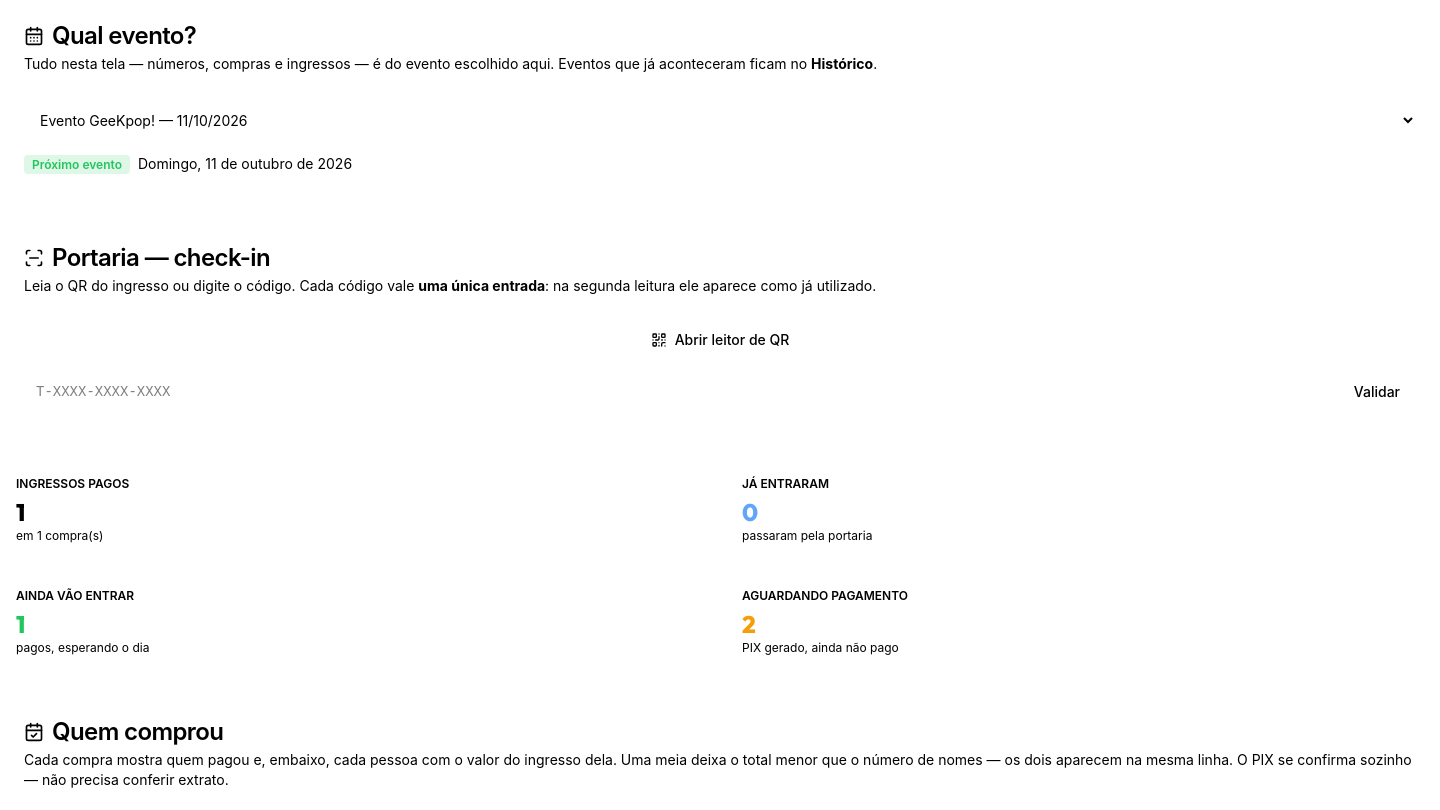
Scenario: EventTicketsTab › portaria mostra de qual evento é o ingresso recusado
This screenshot has width=1440, height=810.
expect the text "Próximo evento" is shown: met, box [24,155,130,174]
Step 1. Type "T-1" into the field with placeholder "T-XXXX-XXXX-XXXX" → (677,392), box [24,372,1330,412]
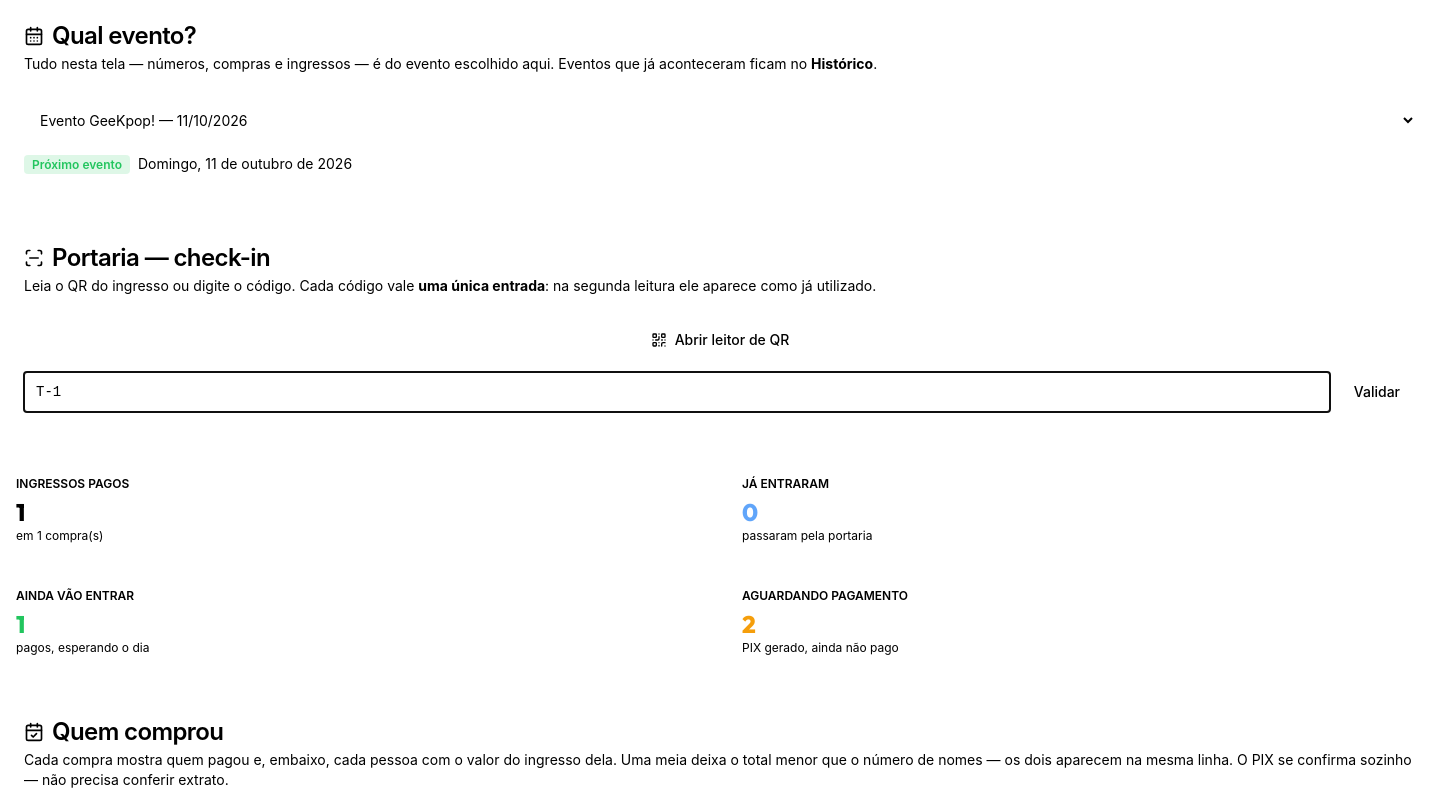
Step 2. Click the button "Validar" → (1377,392), box [1338,372,1416,412]
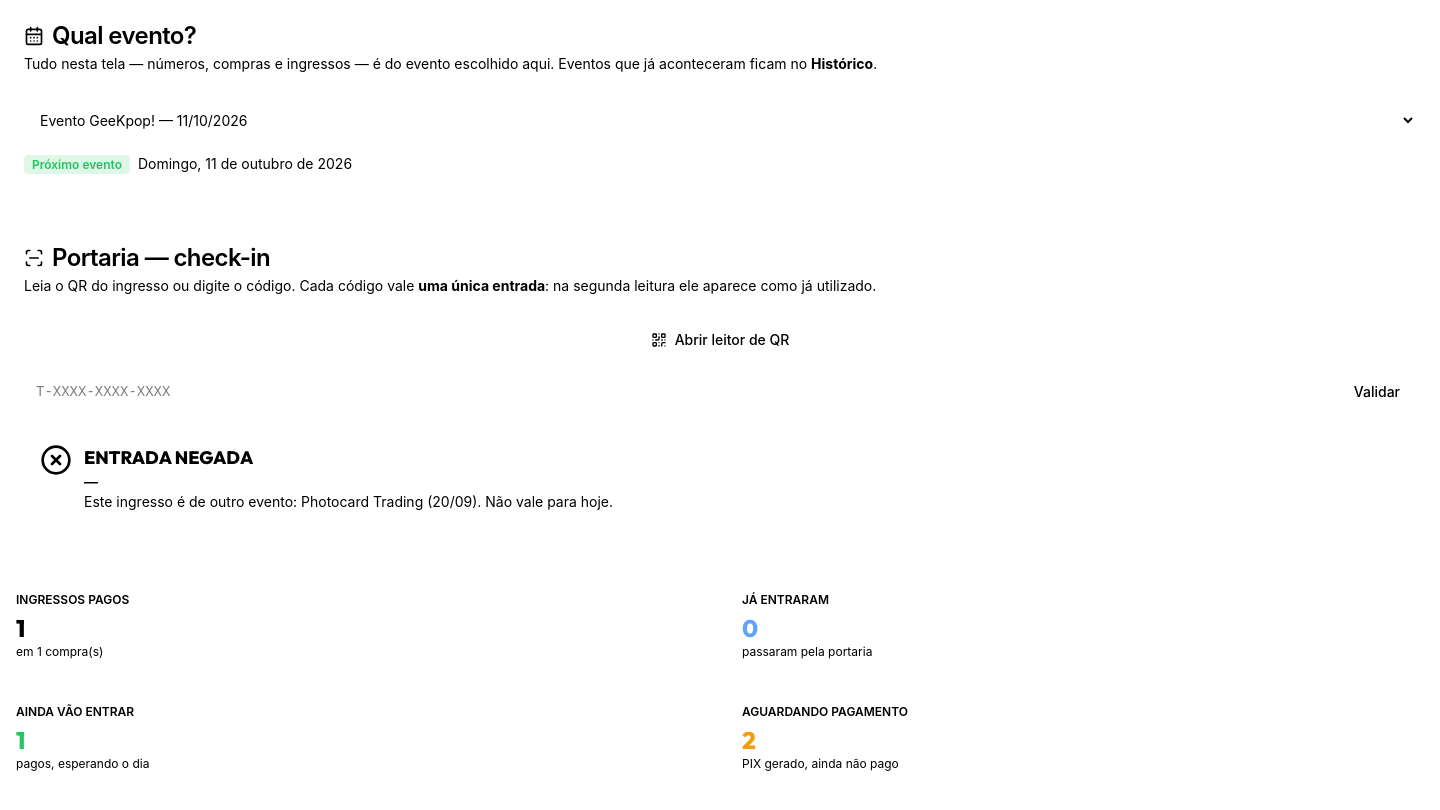
expect the text "ENTRADA NEGADA" is shown: met, box [84,446,253,469]
expect the text "de outro evento: Photocard Trading" is shown: met, box [84,493,613,510]
